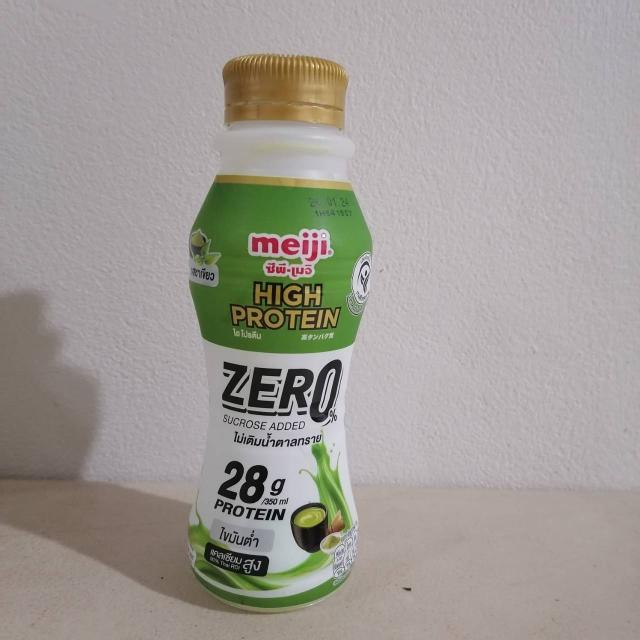Botella de plastico: (189, 55, 372, 611)
